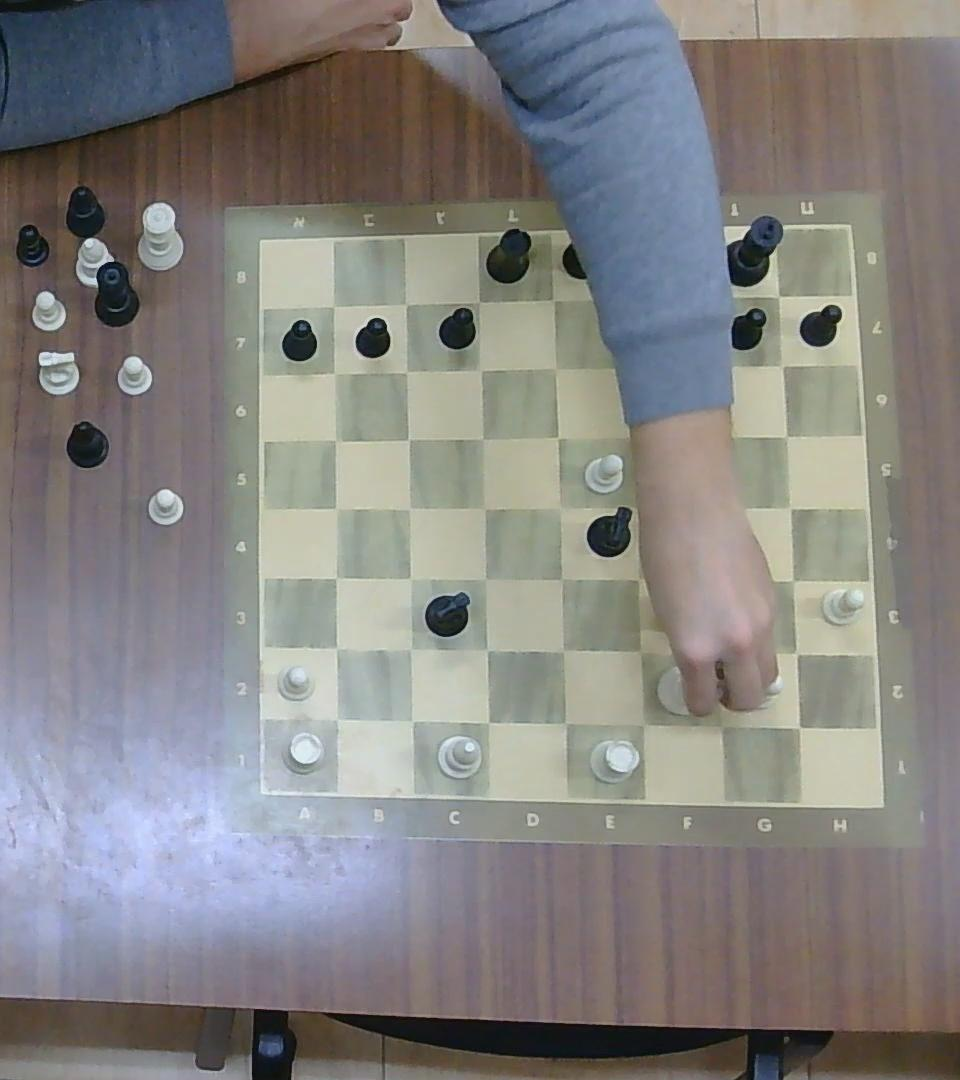xcorner: (703, 707, 738, 740), (626, 707, 658, 740), (548, 705, 579, 739), (471, 705, 502, 738), (320, 701, 351, 733), (781, 637, 812, 669), (624, 490, 655, 522), (689, 348, 721, 379), (547, 634, 578, 665), (470, 563, 501, 594), (783, 711, 813, 743), (625, 636, 656, 666), (470, 634, 501, 664), (395, 705, 425, 735), (394, 634, 424, 664), (698, 636, 728, 666), (548, 563, 577, 594), (776, 493, 806, 522), (625, 563, 654, 593), (701, 565, 730, 595), (690, 285, 720, 314), (321, 562, 350, 591), (321, 633, 350, 662), (777, 566, 807, 594), (471, 493, 499, 522), (322, 493, 350, 522), (547, 493, 575, 522), (395, 564, 423, 592), (393, 425, 422, 452), (395, 494, 423, 521), (321, 425, 349, 452), (469, 423, 497, 450), (702, 493, 728, 522), (467, 356, 495, 382), (610, 288, 636, 316), (541, 285, 567, 312), (617, 421, 643, 448), (701, 421, 727, 448), (545, 424, 573, 449), (321, 360, 349, 385), (773, 422, 799, 448), (612, 350, 638, 376), (543, 355, 570, 380), (393, 358, 419, 383), (467, 289, 492, 314), (393, 291, 419, 315), (322, 293, 345, 317), (768, 284, 791, 306), (772, 353, 794, 375)
